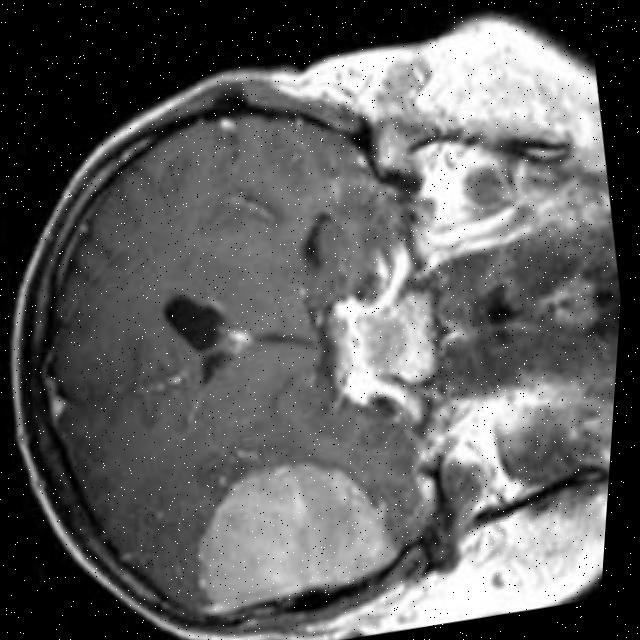Meningioma: (174, 442, 412, 617)
